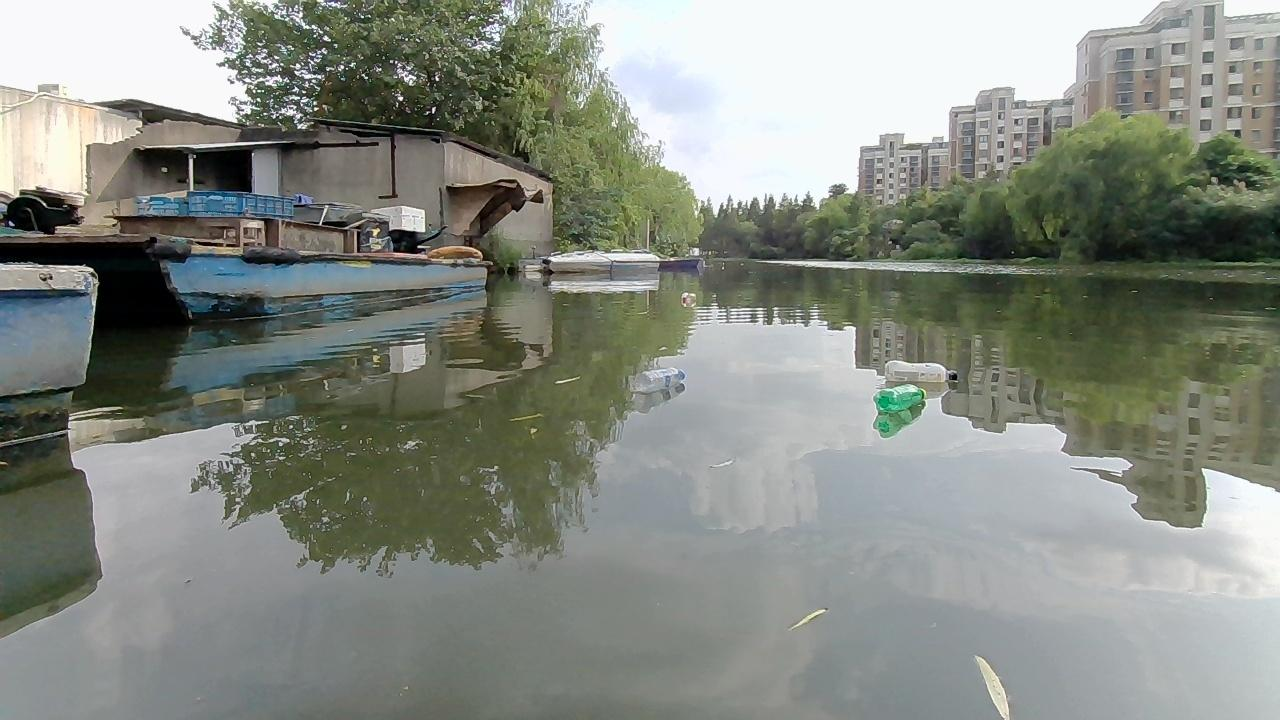bottle: (881, 357, 961, 384), (628, 361, 689, 392), (867, 381, 926, 412), (678, 288, 696, 306)
